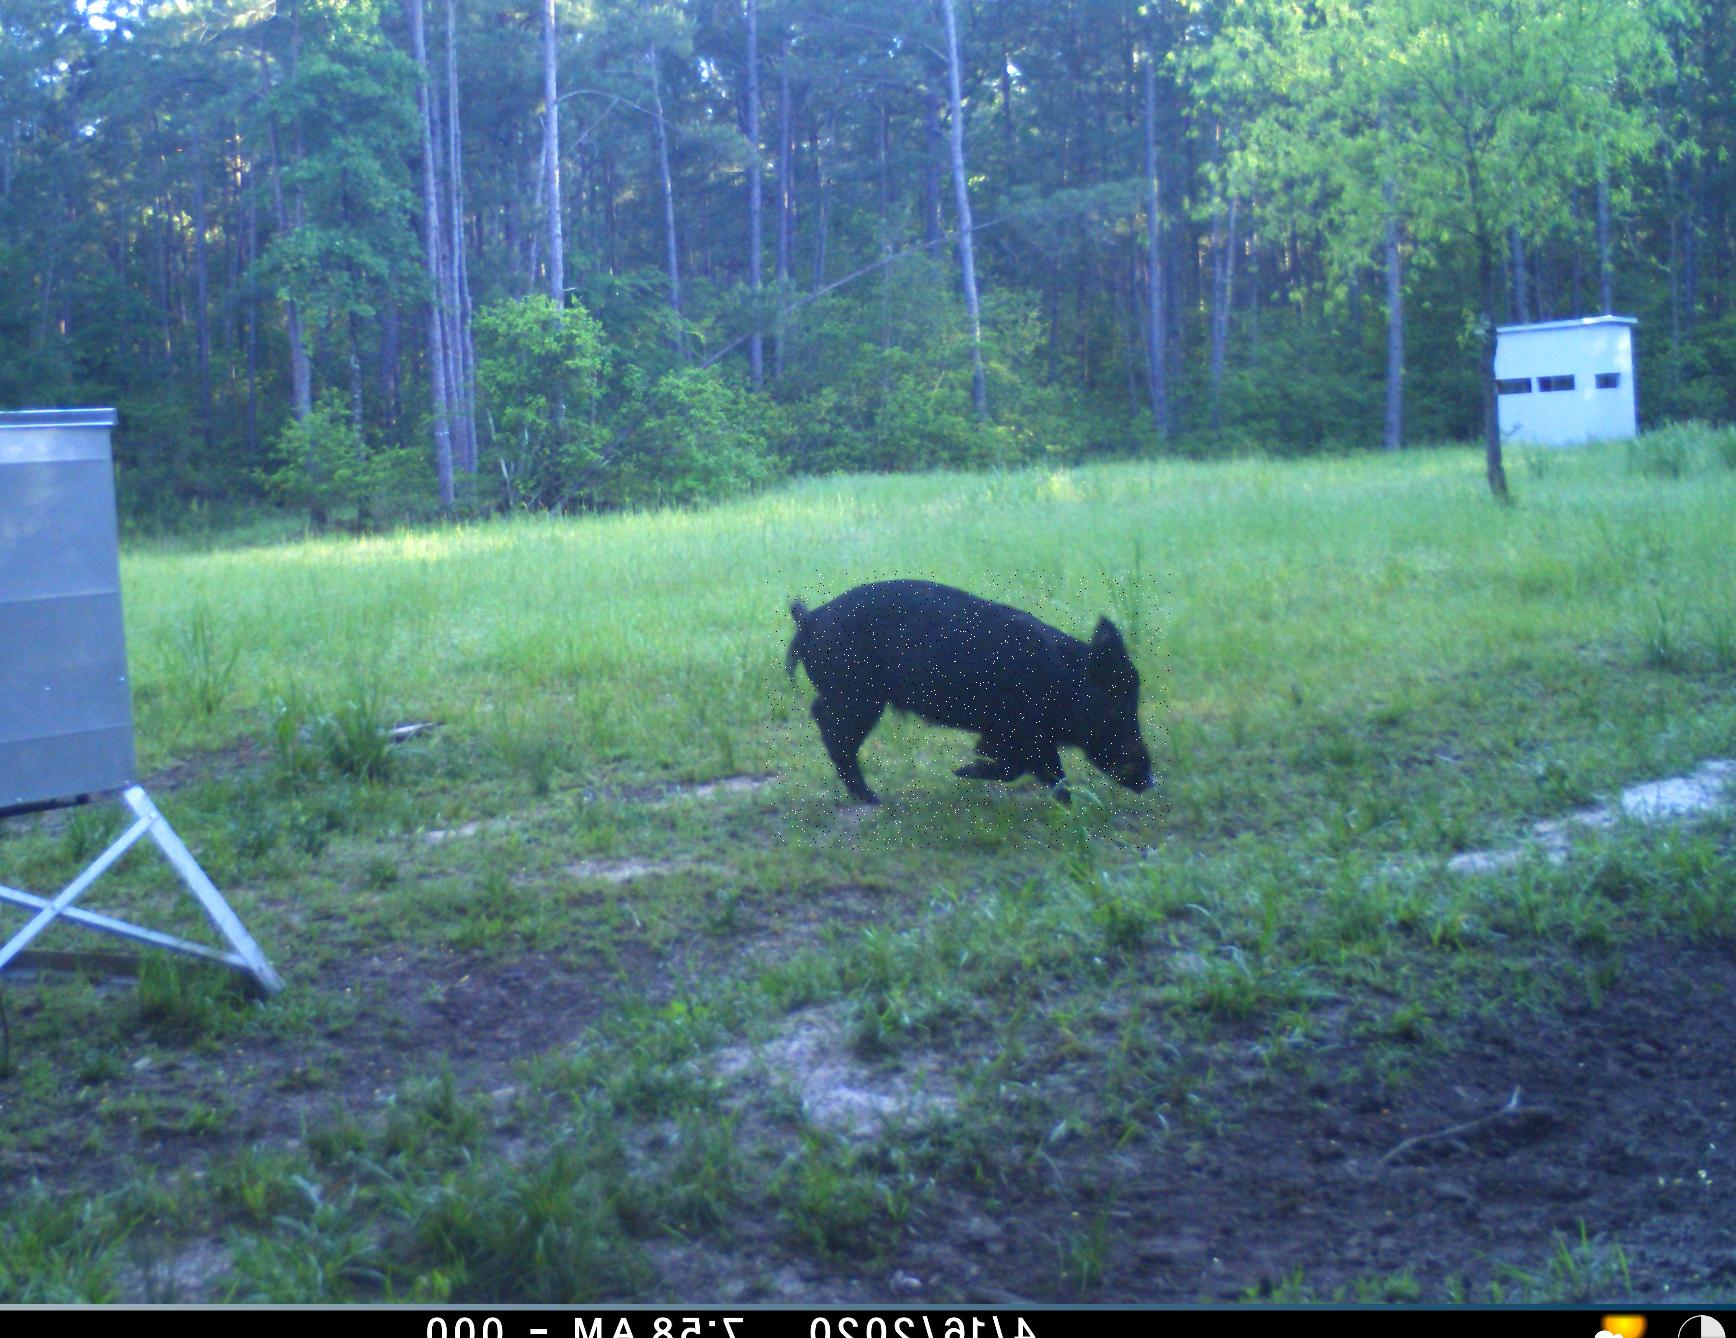Hog: (766, 570, 1170, 850)
